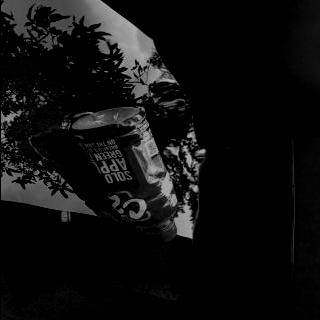bottle: (68, 105, 180, 244)
